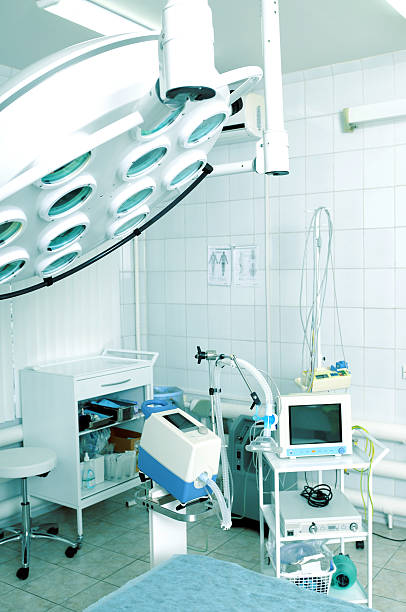bedside_monitor: (281, 393, 362, 454)
breathing_tube: (137, 351, 279, 530)
chair: (1, 447, 78, 581)
handle: (98, 379, 132, 386)
medical_drawer: (21, 347, 160, 549)
operating_bed: (71, 553, 394, 612)
surgical_light: (1, 32, 230, 300)
utility_cart: (255, 438, 388, 612)
